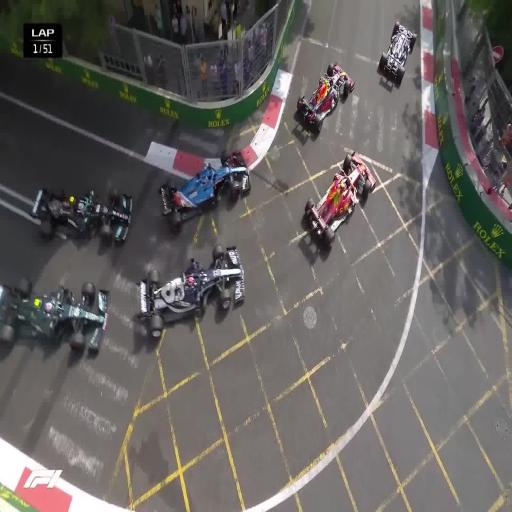f1_car: (138, 245, 245, 337), (0, 279, 108, 351), (160, 152, 251, 231), (305, 152, 375, 247), (31, 189, 132, 242), (297, 62, 355, 132), (378, 20, 417, 84)
